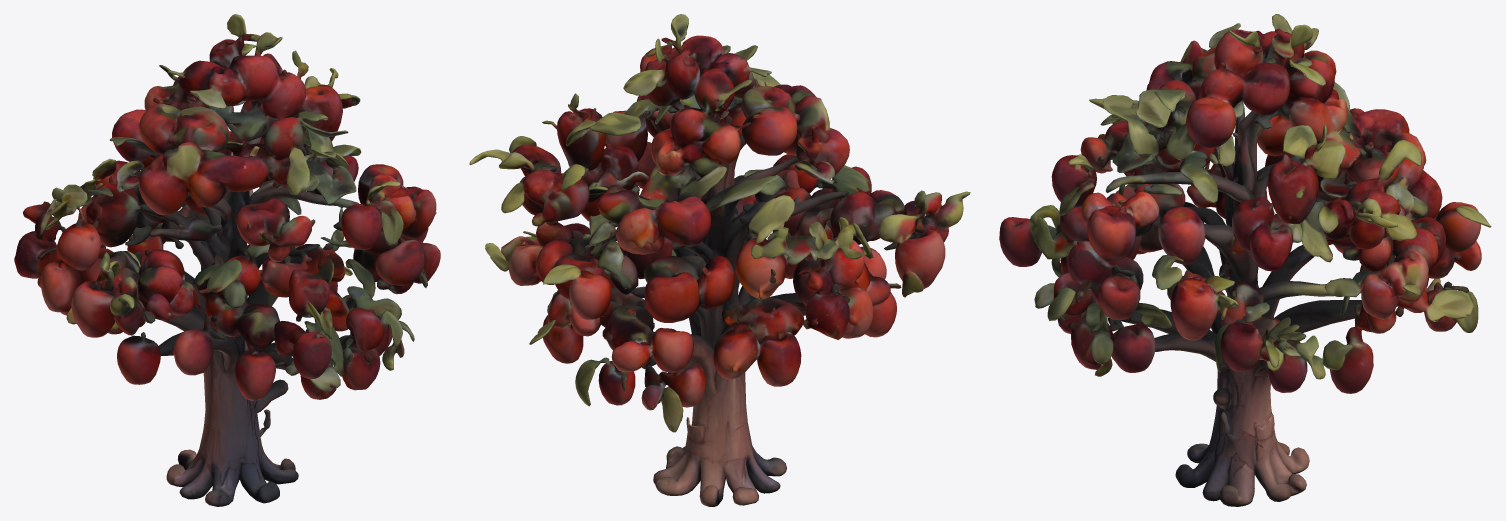
The model's file is nature-tree-apple.glb.
The picture shows the model from 3 angles, left to right: view 1: azimuth 30°, elevation 25°; view 2: azimuth 150°, elevation 25°; view 3: azimuth 270°, elevation 25°; orthographic projection. The views are drawn at different scales.
Parts seen in each view (by area): view 1: tripo_node_2c77b975-9f2e-4382-b882-c7647688cca0; view 2: tripo_node_2c77b975-9f2e-4382-b882-c7647688cca0; view 3: tripo_node_2c77b975-9f2e-4382-b882-c7647688cca0.
Part boxes in pixels (left/top/right/bottom): tripo_node_2c77b975-9f2e-4382-b882-c7647688cca0: left=14, top=14, right=440, bottom=506; tripo_node_2c77b975-9f2e-4382-b882-c7647688cca0: left=469, top=14, right=970, bottom=506; tripo_node_2c77b975-9f2e-4382-b882-c7647688cca0: left=999, top=14, right=1491, bottom=506.
Bounding box in the file's own units: 4.41 × 5 × 4.71.
1 material, 1 textured.
